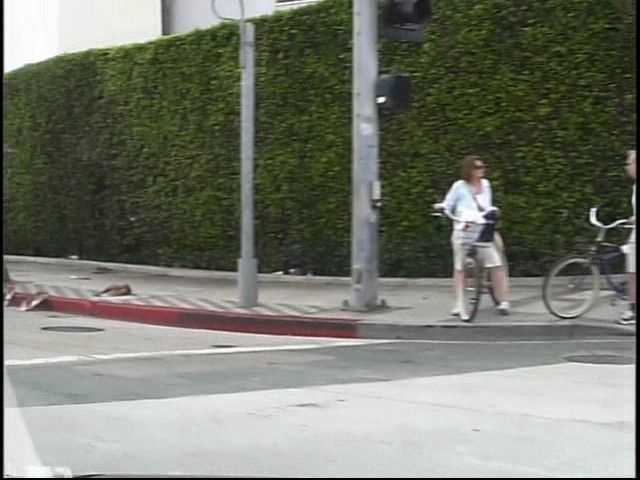person: (428, 153, 497, 326)
